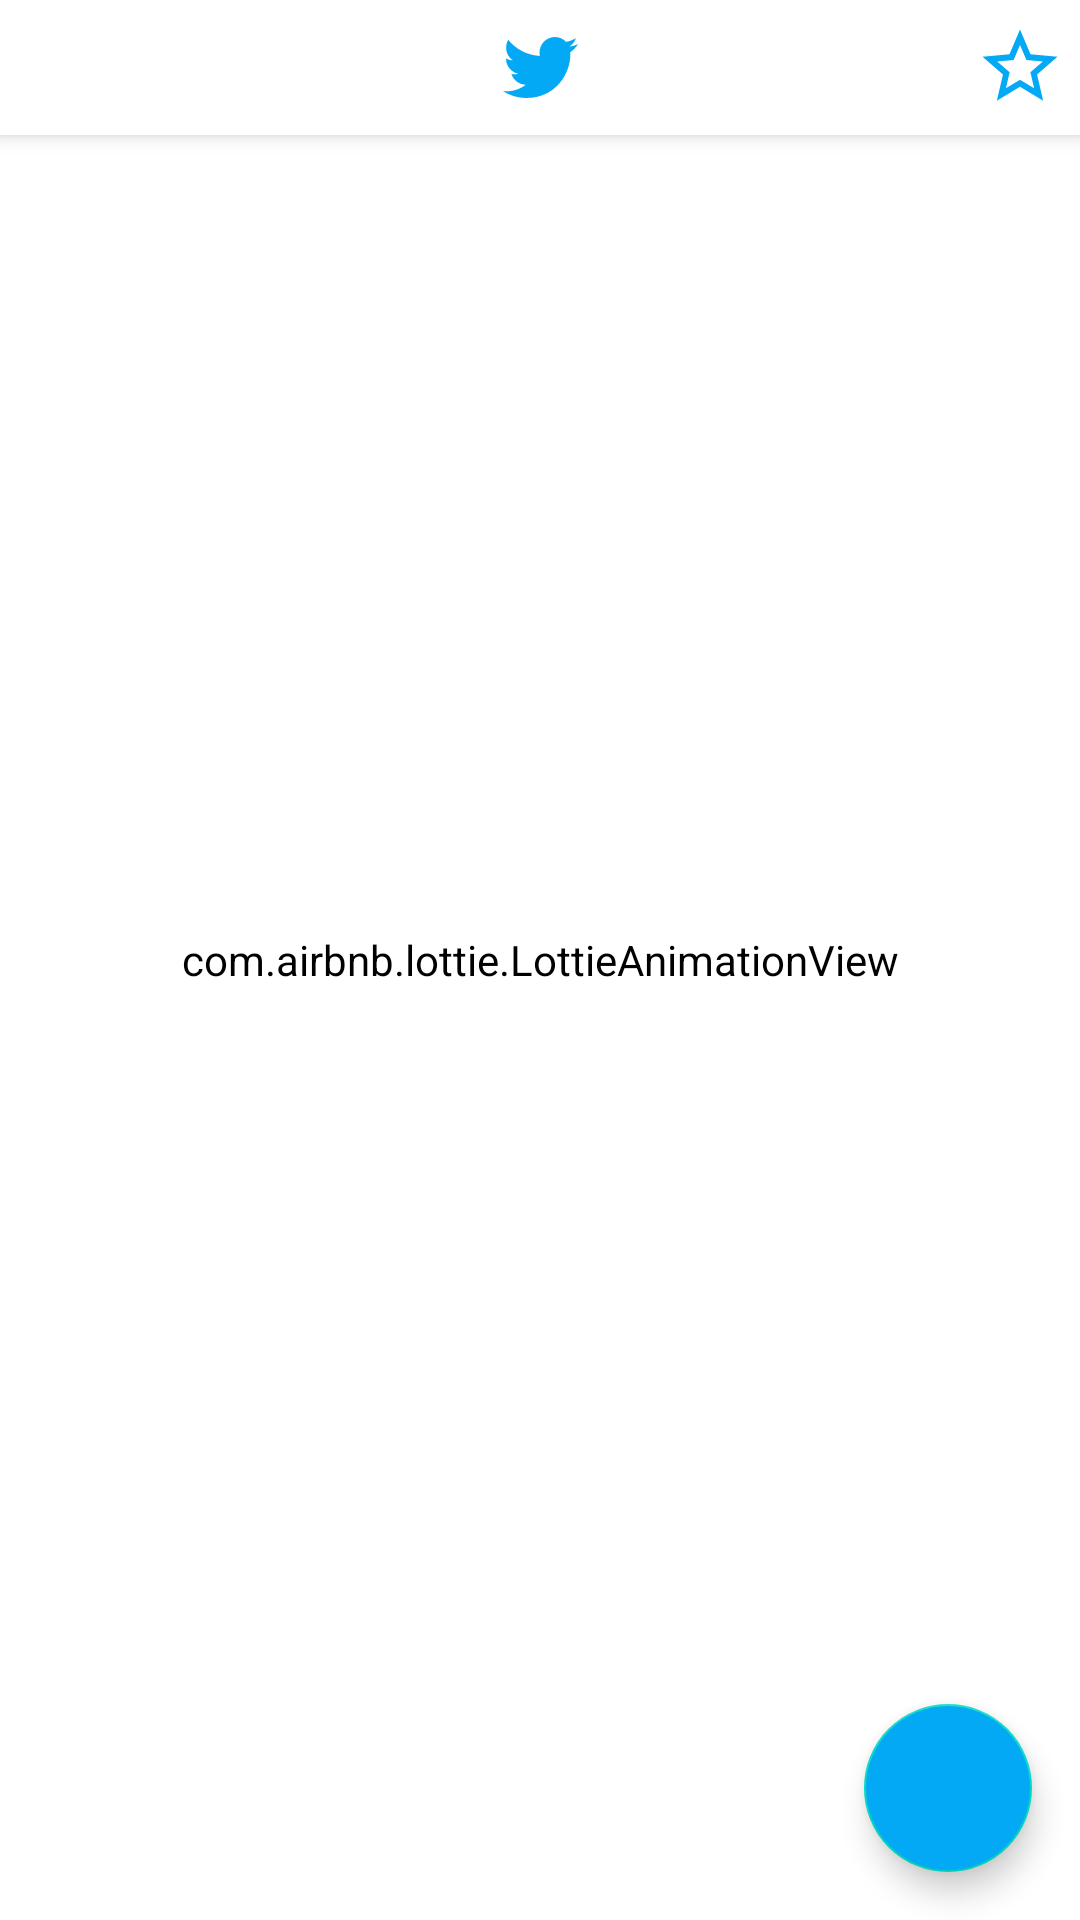

Point at icon controls on the screen. Image size 1080px x 1920px, points as point (x, y).
star border: point (1020, 65)
